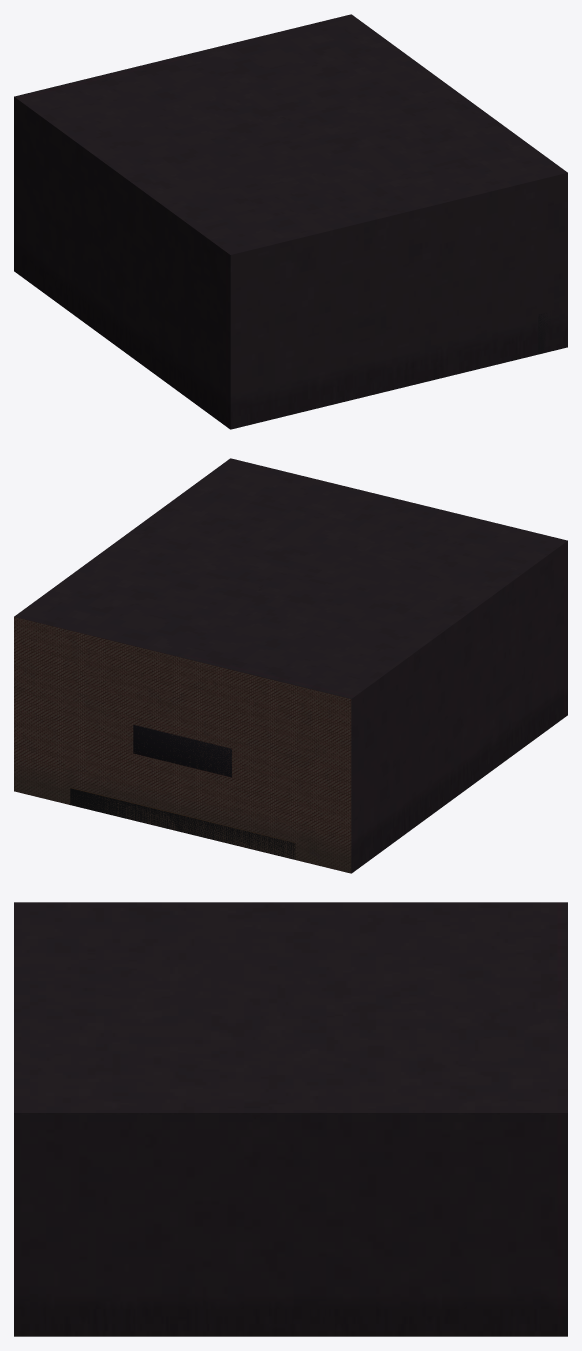
The model's file is club-theatre.glb.
3 views of the same model, one above another, from view 1: azimuth 30°, elevation 25°; view 2: azimuth 150°, elevation 25°; view 3: azimuth 270°, elevation 25° (orthographic). The views are drawn at different scales.
Parts seen in each view (by area): view 1: club_house; view 2: club_house, club_wall, club_stage, club_neon_board; view 3: club_house.
Boxes of the visible parts, box(x1,y1,x2,y2) form: club_house: box(14, 14, 567, 429); club_house: box(14, 458, 567, 873); club_wall: box(14, 617, 351, 873); club_stage: box(70, 787, 295, 859); club_neon_board: box(133, 725, 231, 777); club_house: box(14, 902, 567, 1336).
Bounding box in the file's own units: 18 × 8.92 × 20.
Materials: 16 (5 with a texture image).
